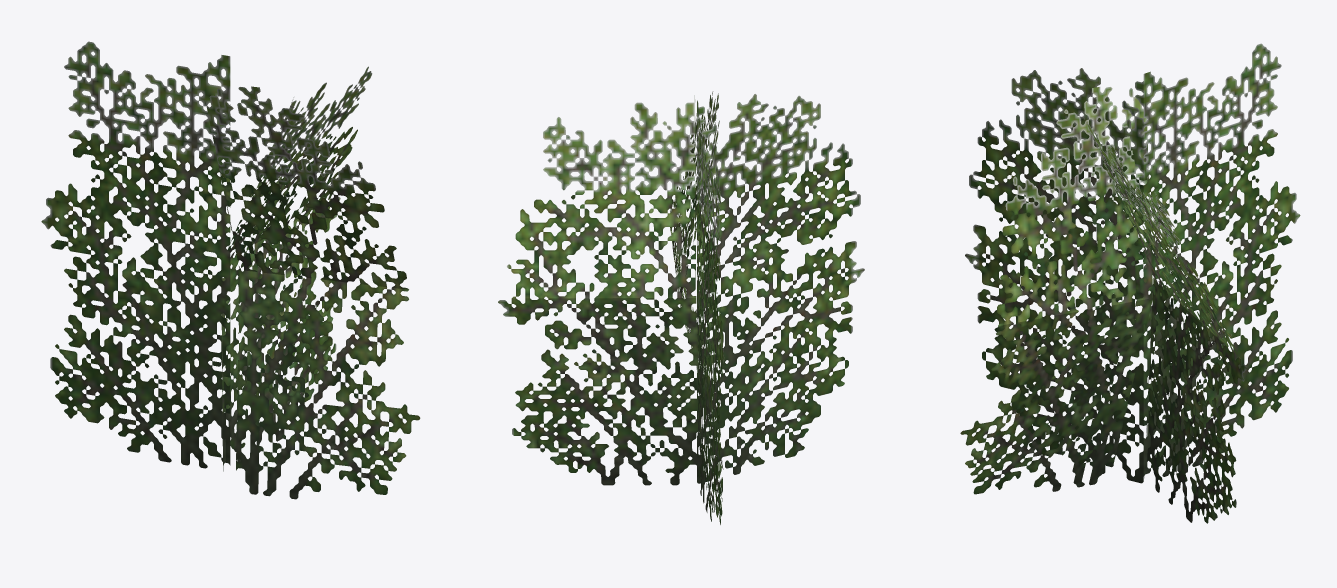
The model's file is hazelnut_bush.obj.
The picture shows the model from 3 angles, left to right: view 1: azimuth 30°, elevation 25°; view 2: azimuth 150°, elevation 25°; view 3: azimuth 270°, elevation 25°; orthographic projection. The views are drawn at different scales.
Visible parts, largest first — view 1: plane; view 2: plane; view 3: plane.
Part boxes in pixels (x1=…): plane: x1=41, y1=41, x2=420, y2=499; plane: x1=498, y1=91, x2=864, y2=524; plane: x1=960, y1=43, x2=1300, y2=523.
Bounding box in the file's own units: 2.47 × 2.92 × 2.58.
